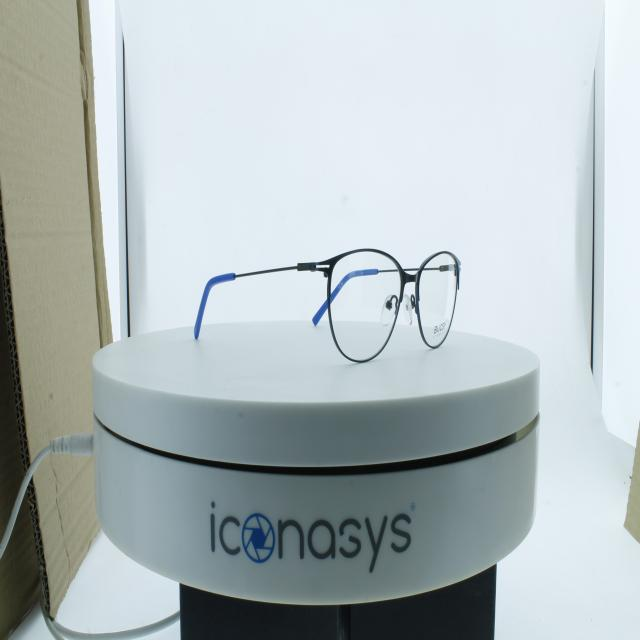Specs: (183, 229, 482, 378)
